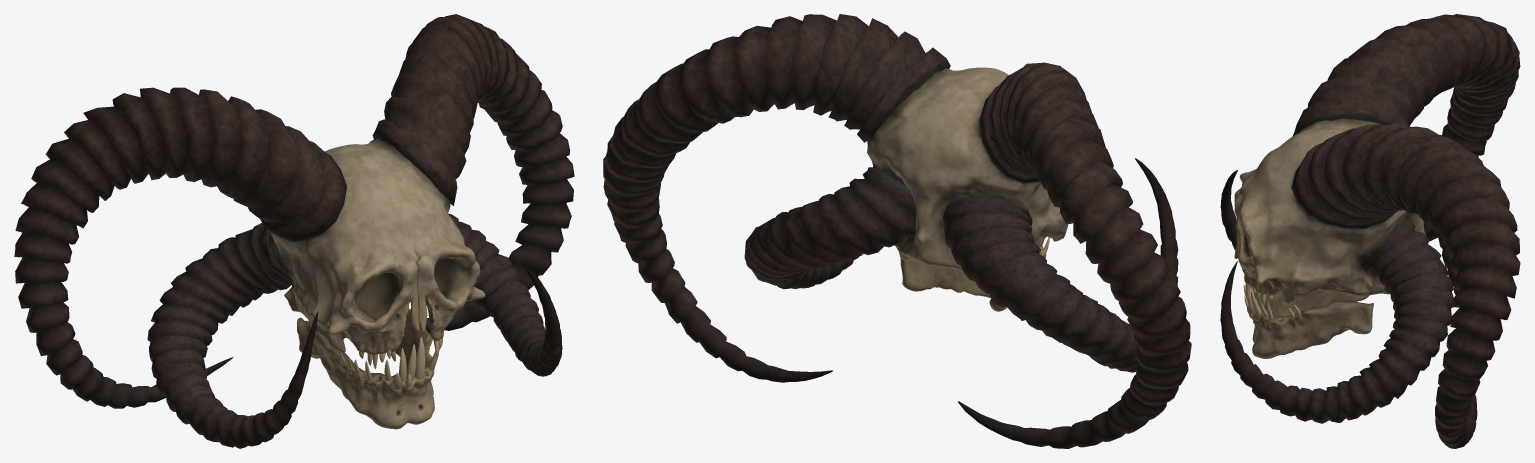
File: demon_skull.glb
The picture shows the model from 3 angles, left to right: view 1: azimuth 30°, elevation 25°; view 2: azimuth 150°, elevation 25°; view 3: azimuth 270°, elevation 25°; orthographic projection. The views are drawn at different scales.
Parts seen in each view (by area): view 1: DemonSkull; view 2: DemonSkull; view 3: DemonSkull.
Boxes of the visible parts, x1,y1,x2,y2 form: DemonSkull: (14, 14, 574, 448); DemonSkull: (603, 14, 1191, 448); DemonSkull: (1220, 14, 1520, 448).
Size of the model in its own units: 0.5858 by 0.3315 by 0.3031.
Materials: 1 (1 with a texture image).
